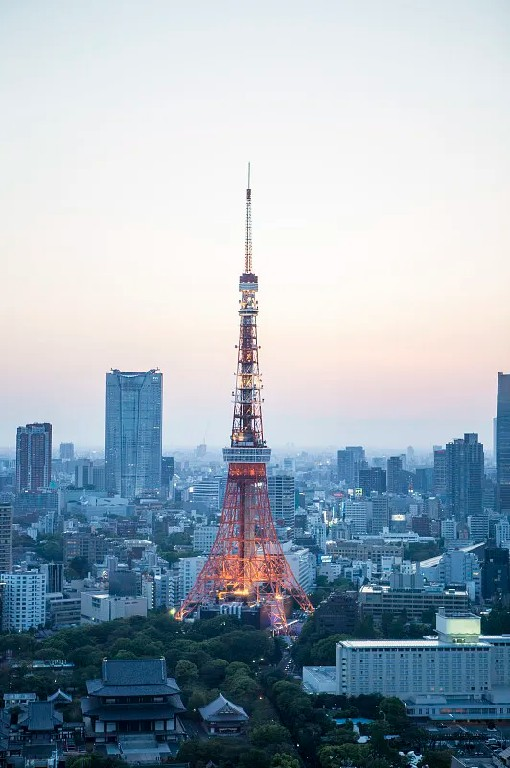Tokyo: (172, 152, 315, 632)
